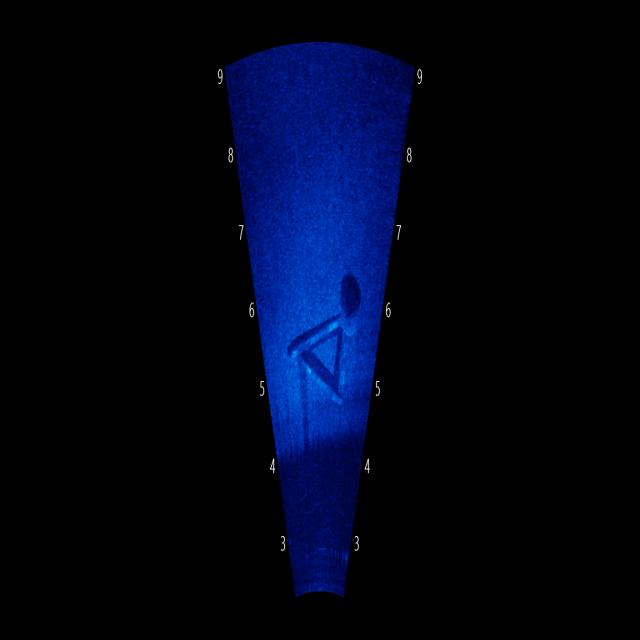triangle: (286, 261, 360, 415)
